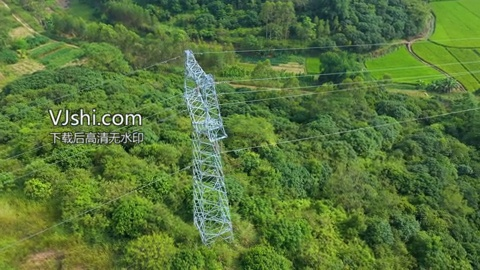tower_body: (172, 49, 243, 247)
tower_foot: (189, 191, 240, 244)
tower_head: (175, 51, 238, 141)
